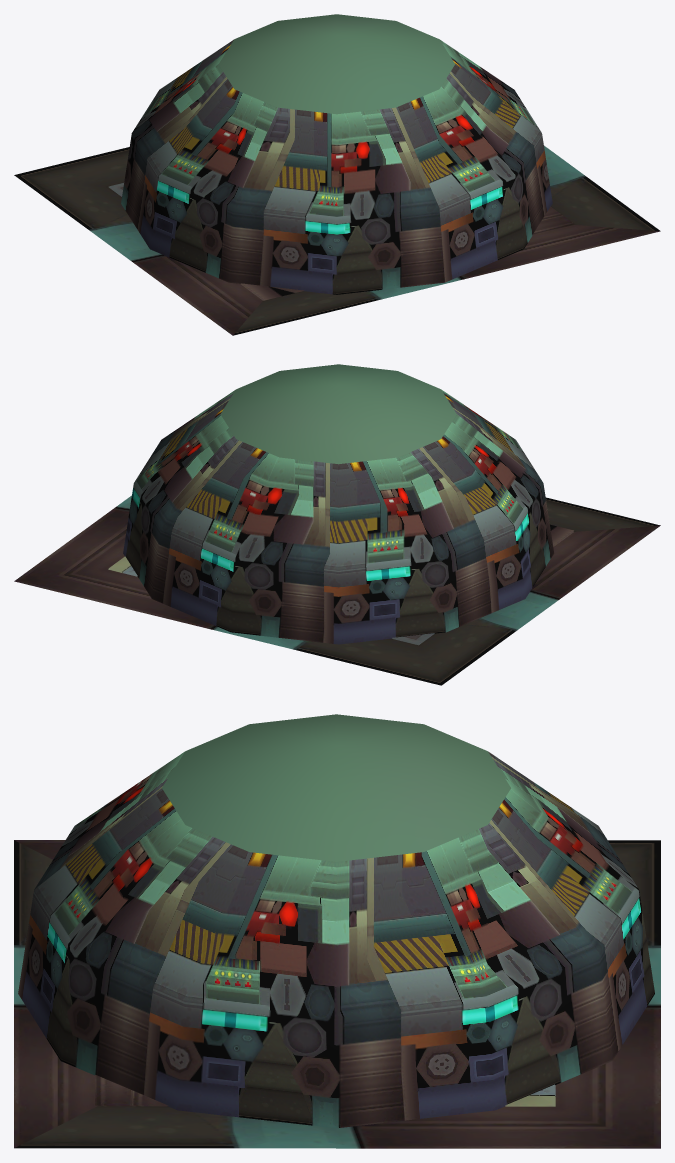
Rendered from Combined_Mesh_root_scene__8_c5249964__junkyard_diffuse_03_d_12958aa0_c1f257.obj.
3 renders of one model, top to bottom at view 1: azimuth 30°, elevation 25°; view 2: azimuth 150°, elevation 25°; view 3: azimuth 270°, elevation 25°, orthographic. The views are drawn at different scales.
Bounding box in the file's own units: 109 × 41.29 × 96.33.
294 materials, 294 textured.
